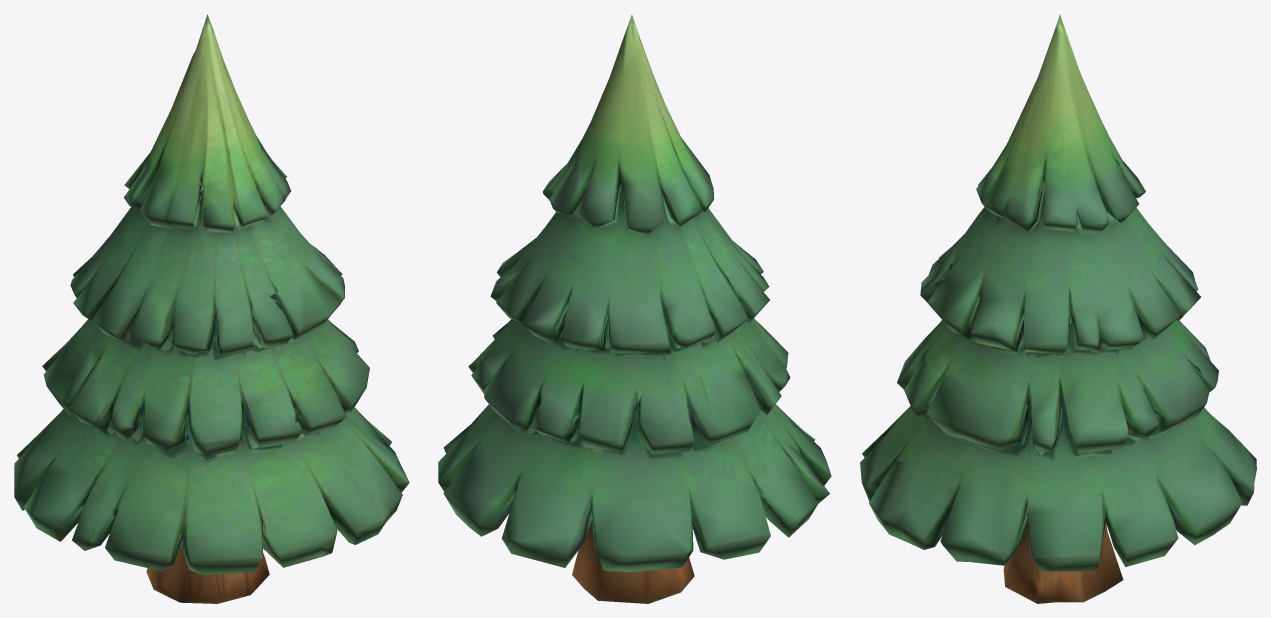
File: Evergreen_Charm_0405084952_texture.fbx
3 views of the same model, side by side, from view 1: azimuth 30°, elevation 25°; view 2: azimuth 150°, elevation 25°; view 3: azimuth 270°, elevation 25° (orthographic).
Visible parts, largest first — view 1: Mesh1; view 2: Mesh1; view 3: Mesh1.
Part boxes in pixels (x1=…): Mesh1: x1=14, y1=14, x2=409, y2=603; Mesh1: x1=438, y1=14, x2=831, y2=603; Mesh1: x1=860, y1=14, x2=1256, y2=603.
Size of the model in its own units: 127 by 200 by 127.
Materials: 1 (1 with a texture image).
